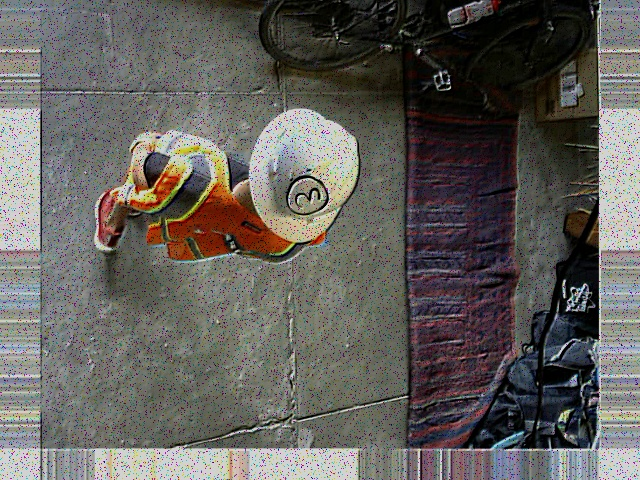three: (286, 176, 330, 215)
